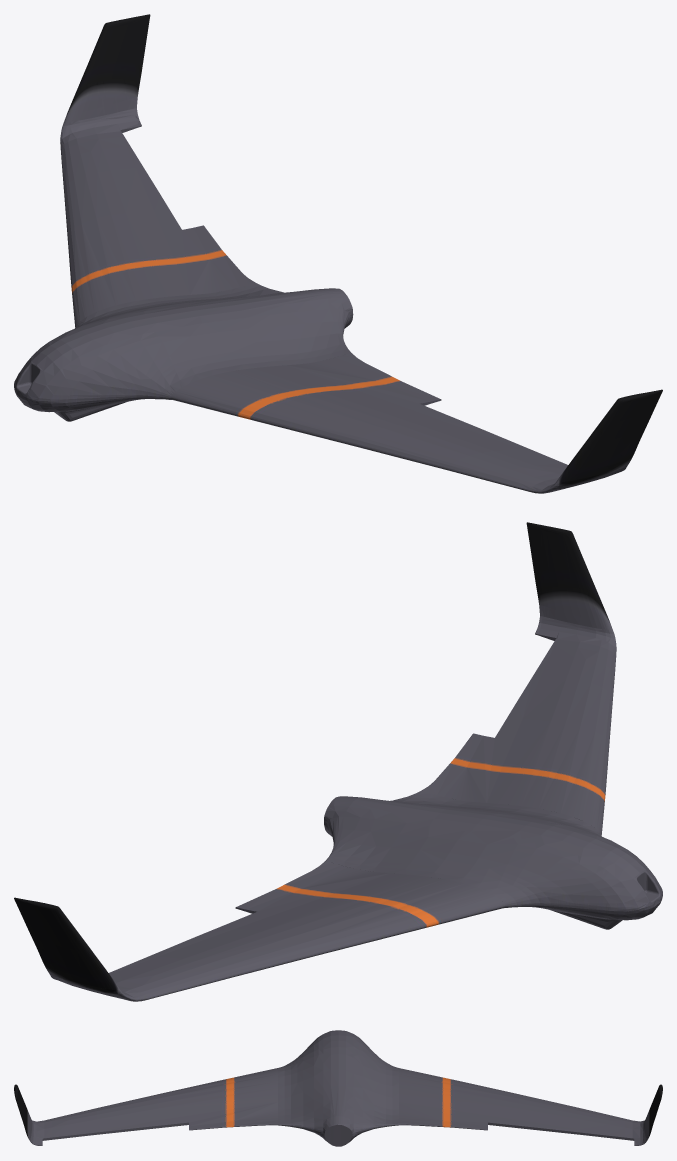
The picture shows the model from 3 angles, top to bottom: view 1: azimuth 30°, elevation 25°; view 2: azimuth 150°, elevation 25°; view 3: azimuth 270°, elevation 25°; orthographic projection. The views are drawn at different scales.
Visible parts, largest first — view 1: node; view 2: node; view 3: node.
Part boxes in pixels (x1,y1,x2,y2): node: [14, 14, 662, 493]; node: [14, 522, 662, 1001]; node: [14, 1030, 662, 1146].
Bounding box in the file's own units: 0.9308 × 0.3073 × 2.15.
Materials: 1 (1 with a texture image).
